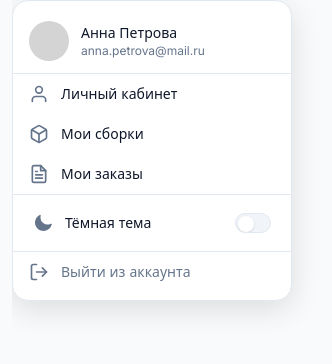
ProfileDropdown component › does not reload when logout fails
Click the button "Выйти из аккаунта" at (152,272), box [13,252,291,292]
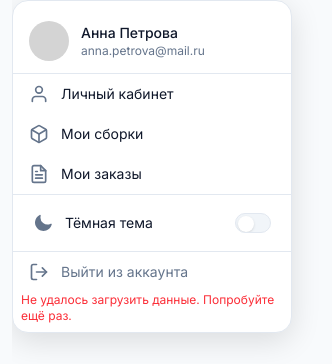
Expected: the message "Не удалось загрузить данные. Попробуйте ещё раз." is shown, [13,292,291,324]
